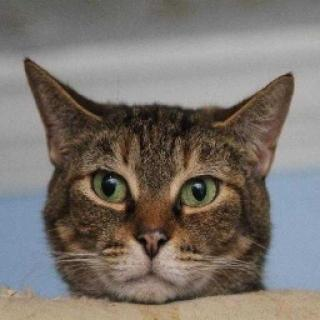cat: (21, 53, 292, 301)
nose: (135, 214, 171, 263)
